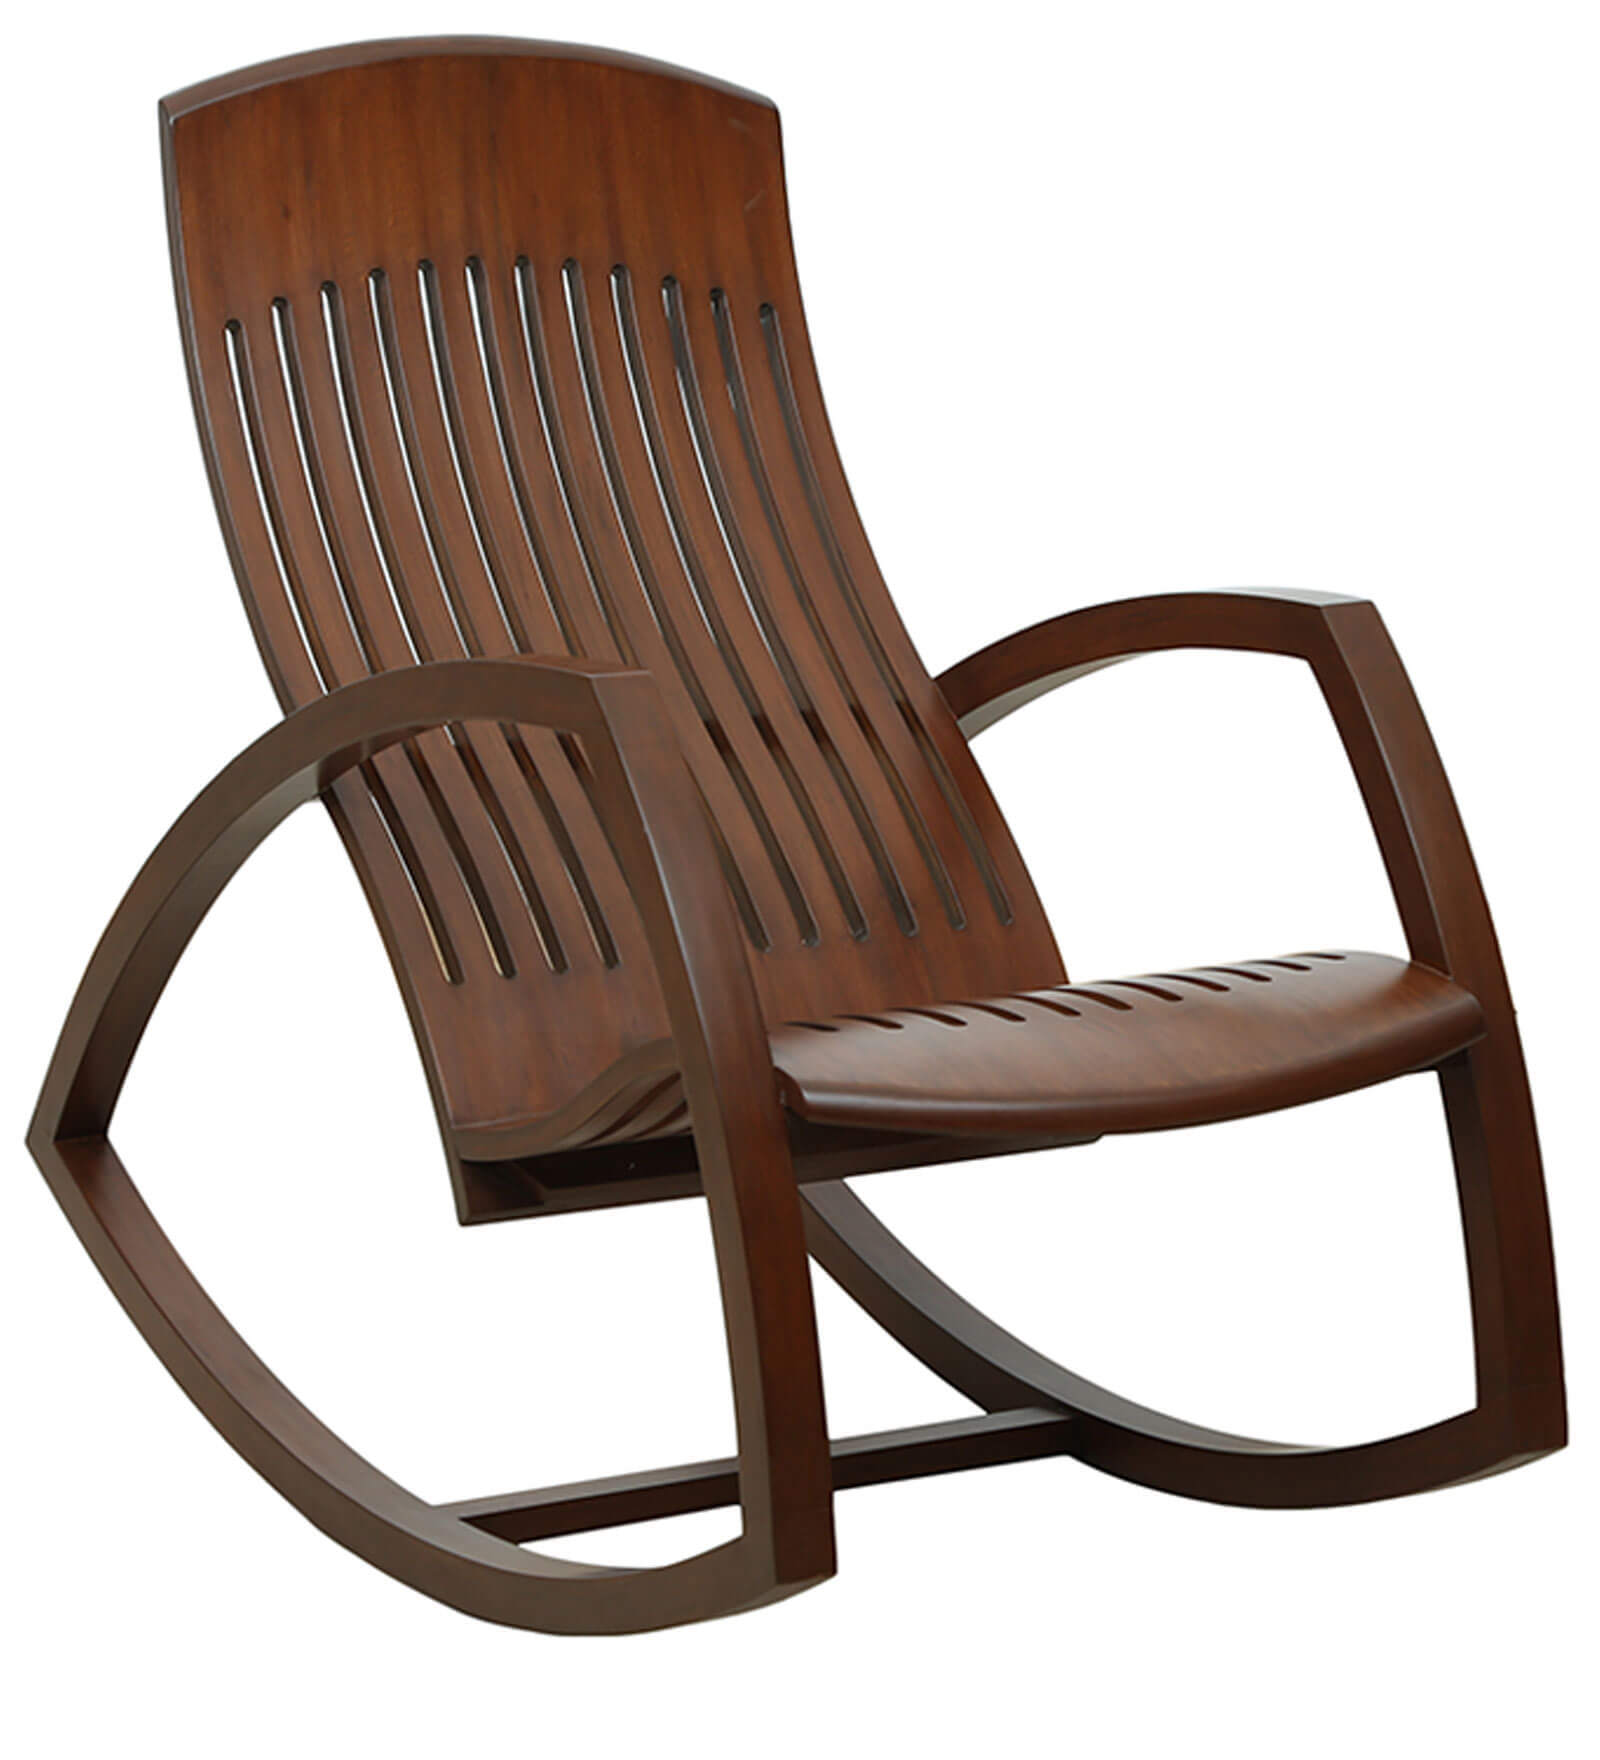Gaivota Rocking Chair in Semi-Gloss Walnut Finish by INDOORS: (28, 26, 1600, 1656)
